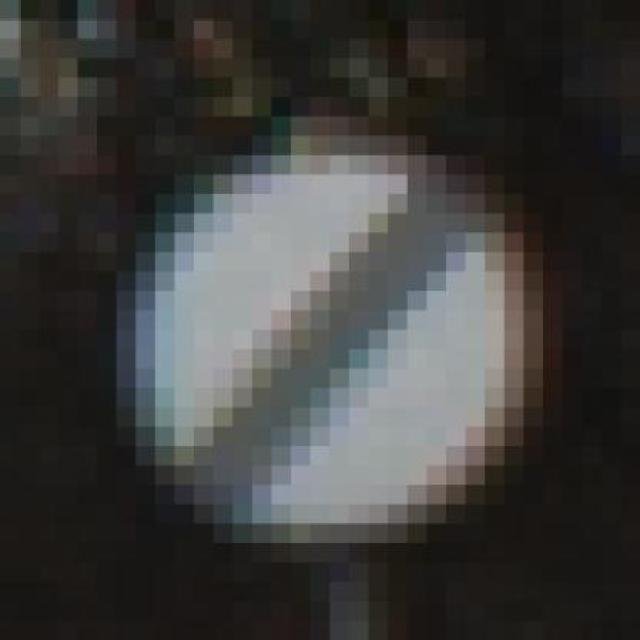End of all speed and passing limits: (78, 155, 582, 562)
